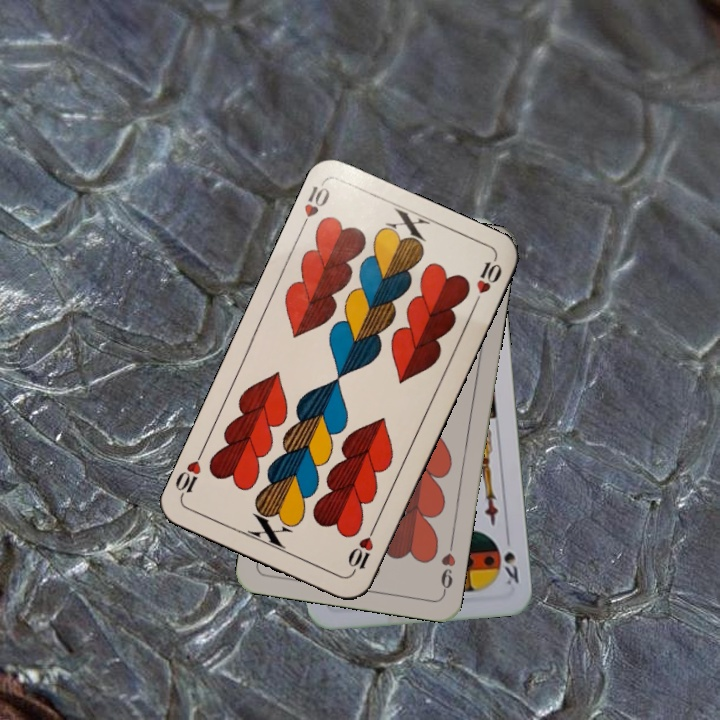H10: (296, 178, 333, 234), (344, 521, 379, 577)
H9: (436, 537, 458, 596)
SK: (500, 547, 521, 588)
